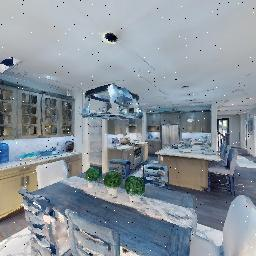chair: (205, 142, 243, 199)
table: (22, 160, 199, 256)
